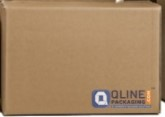stock: (1, 1, 160, 114)
